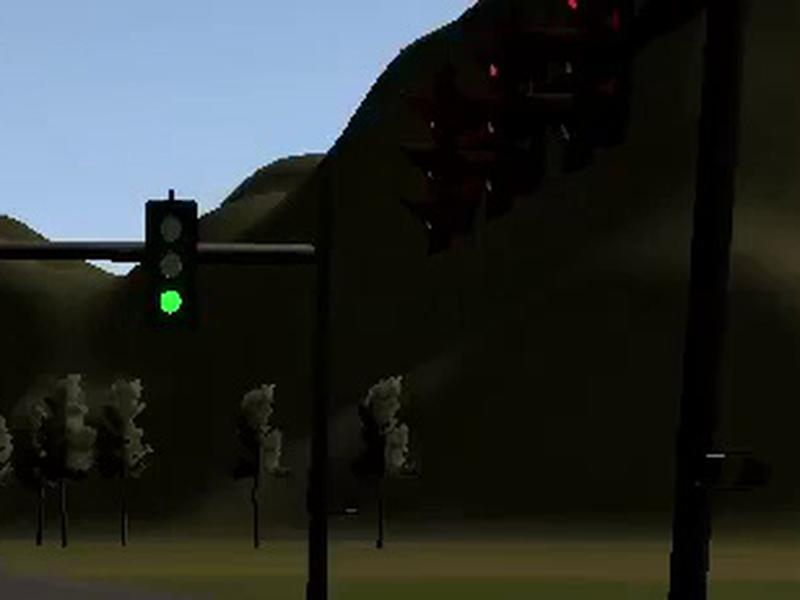Green: (144, 200, 197, 329)
